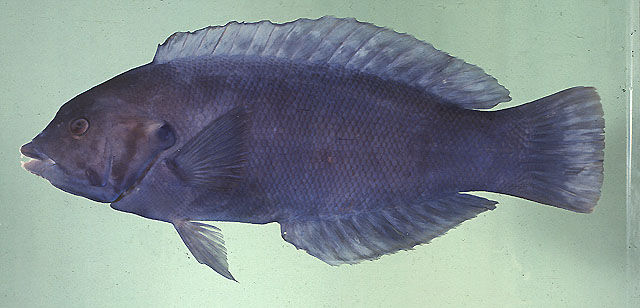fish: (19, 16, 606, 283)
